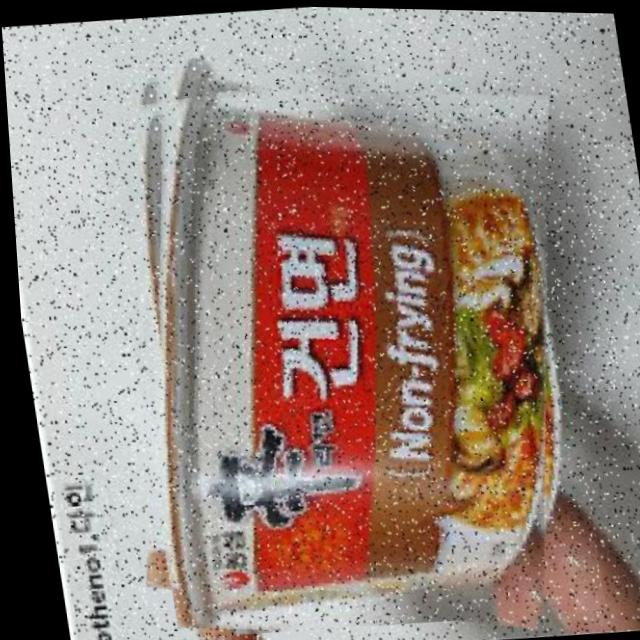Miscellaneous: (84, 35, 599, 640)
